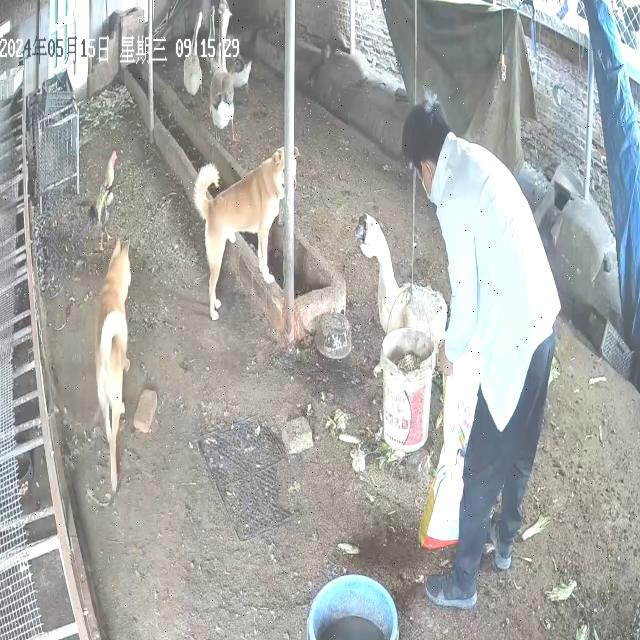dog: (194, 146, 302, 322), (95, 239, 133, 495)
